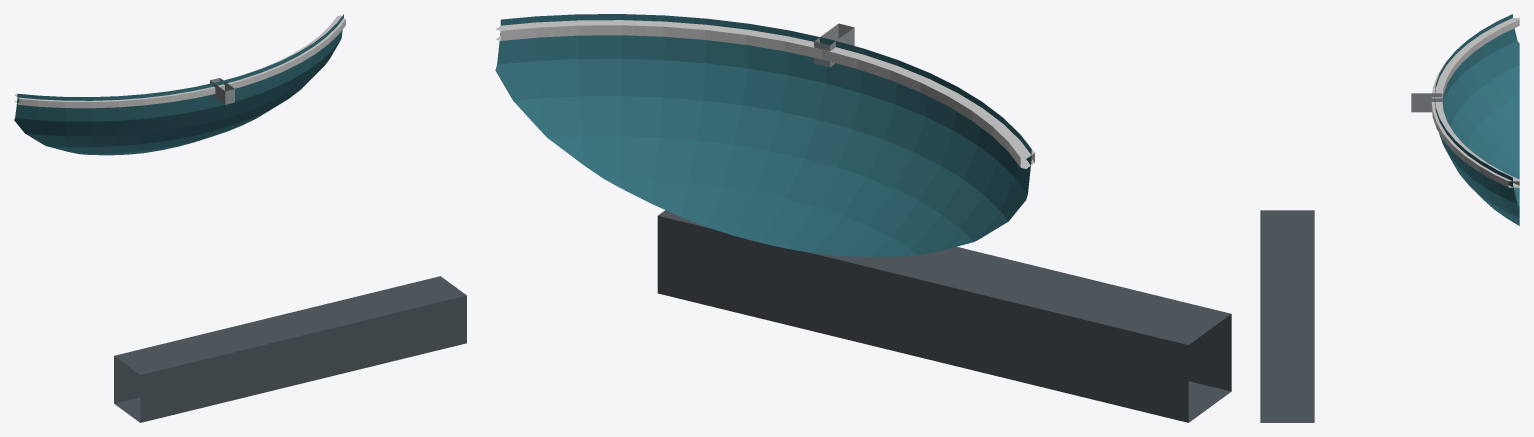
Rendered from cell_7.obj.
3 renders of one model, left to right at view 1: azimuth 30°, elevation 25°; view 2: azimuth 150°, elevation 25°; view 3: azimuth 270°, elevation 25°, orthographic. The views are drawn at different scales.
Bounding box in the file's own units: 1 × 0.7 × 0.67.
